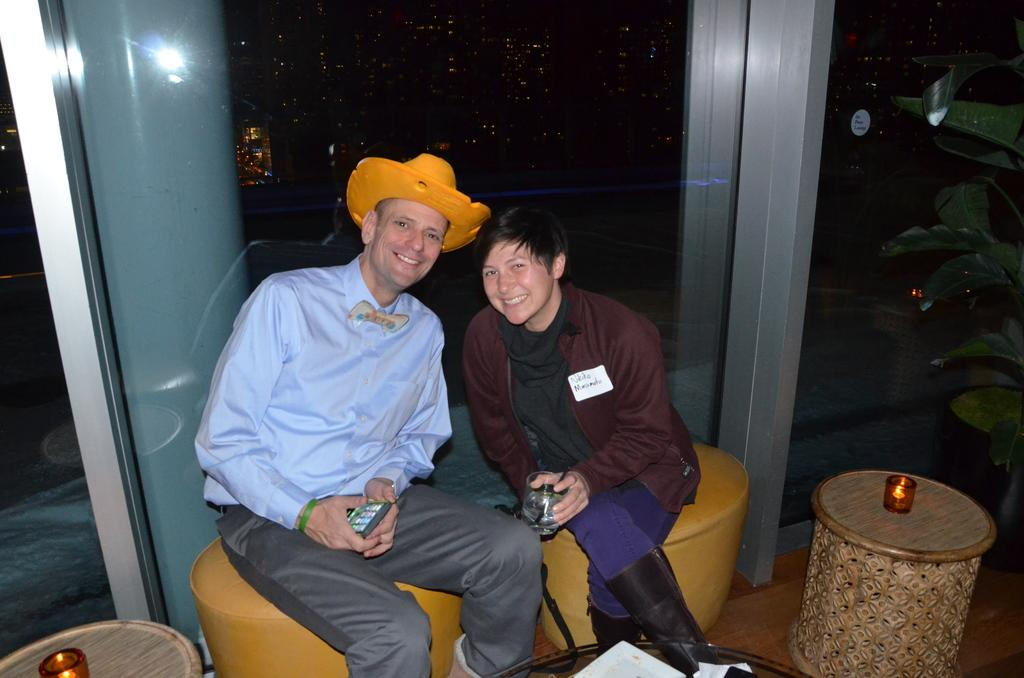Hat: (342, 150, 491, 253)
